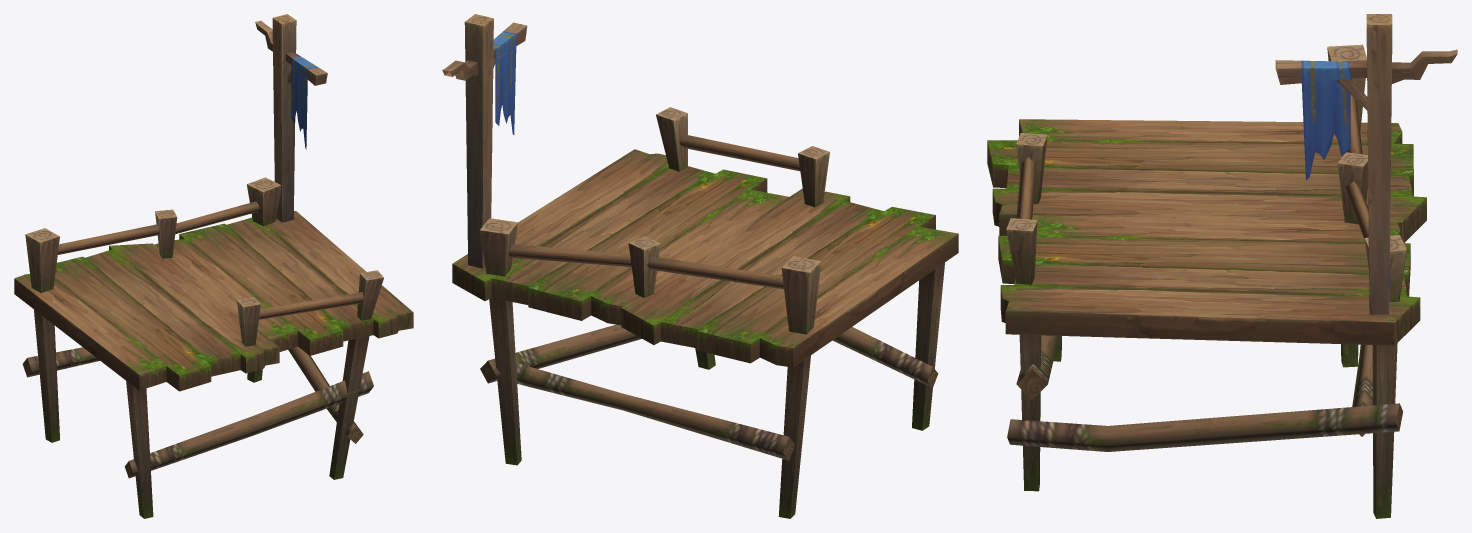
The model's file is fb_lyhg_zj_19_b.FBX.
The picture shows the model from 3 angles, left to right: view 1: azimuth 30°, elevation 25°; view 2: azimuth 150°, elevation 25°; view 3: azimuth 270°, elevation 25°; orthographic projection. The views are drawn at different scales.
Parts seen in each view (by area): view 1: fb_lyhg_zj_19_b; view 2: fb_lyhg_zj_19_b; view 3: fb_lyhg_zj_19_b.
Part boxes in pixels (x1=…): fb_lyhg_zj_19_b: x1=14, y1=14, x2=413, y2=518; fb_lyhg_zj_19_b: x1=442, y1=14, x2=958, y2=518; fb_lyhg_zj_19_b: x1=987, y1=14, x2=1457, y2=518.
Size of the model in its own units: 328 by 389 by 321.
